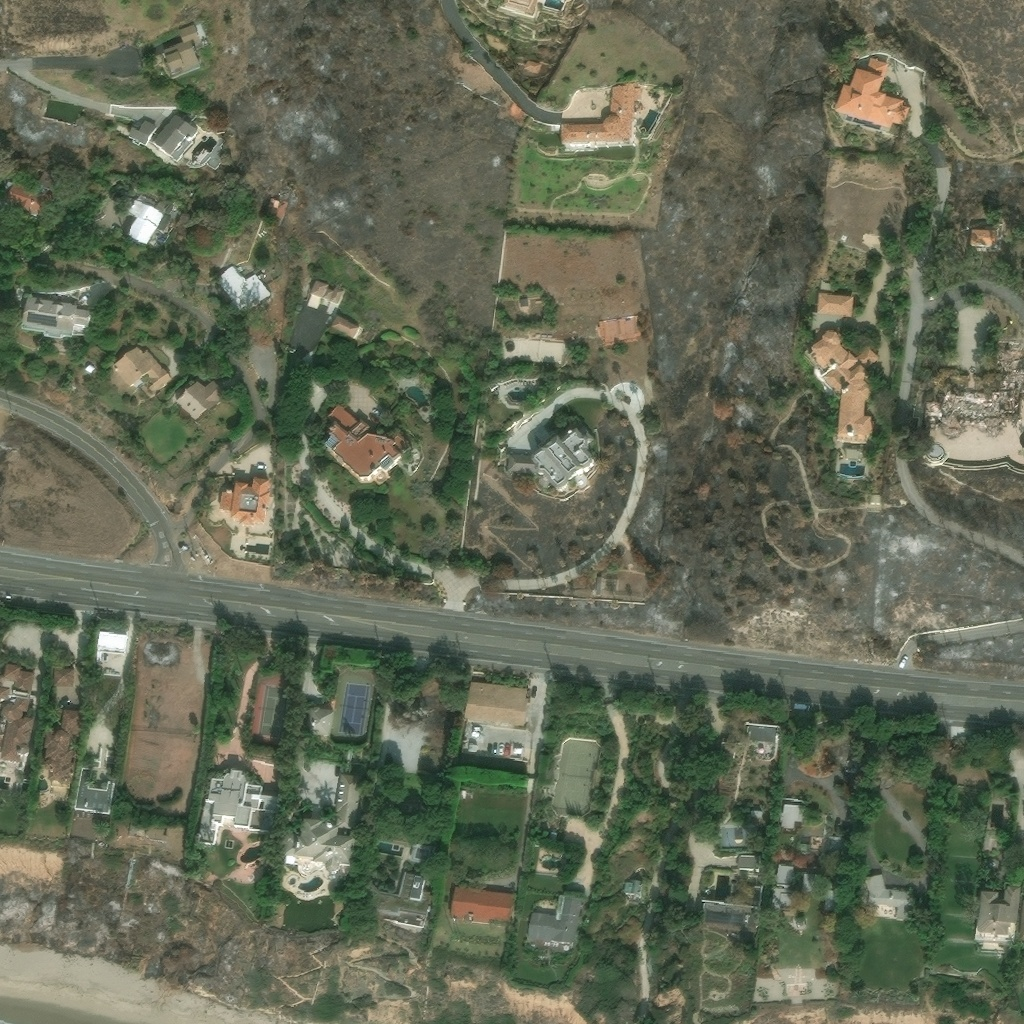0 no-damage: (278, 774, 365, 873), (193, 769, 280, 847), (324, 404, 410, 477), (505, 428, 599, 492), (364, 841, 438, 917), (834, 55, 911, 128), (560, 83, 641, 144), (42, 707, 86, 786), (18, 294, 90, 340), (213, 263, 271, 317), (526, 897, 582, 952), (112, 346, 171, 395), (464, 681, 528, 726), (975, 885, 1020, 943), (219, 477, 270, 526), (450, 887, 514, 925), (702, 885, 764, 924), (0, 698, 33, 763), (150, 112, 197, 157), (72, 767, 114, 816), (160, 25, 199, 75), (867, 874, 908, 920), (174, 380, 219, 421), (124, 200, 164, 246), (836, 396, 873, 444), (810, 329, 848, 371), (596, 315, 641, 348), (3, 183, 43, 219), (305, 279, 345, 314), (300, 706, 334, 737), (817, 291, 854, 319), (1, 663, 35, 693), (743, 723, 780, 745), (126, 119, 155, 146), (779, 805, 809, 829), (330, 314, 360, 337), (97, 631, 127, 654), (719, 828, 748, 849), (266, 198, 288, 221), (36, 171, 57, 191), (776, 865, 794, 888), (53, 667, 73, 687), (623, 880, 642, 897), (738, 855, 759, 869), (523, 60, 541, 75), (827, 836, 845, 849), (0, 687, 8, 700), (750, 810, 762, 818), (519, 298, 528, 307)
3 destroyed: (956, 374, 1023, 432)
4 un-classified: (504, 0, 537, 14)
